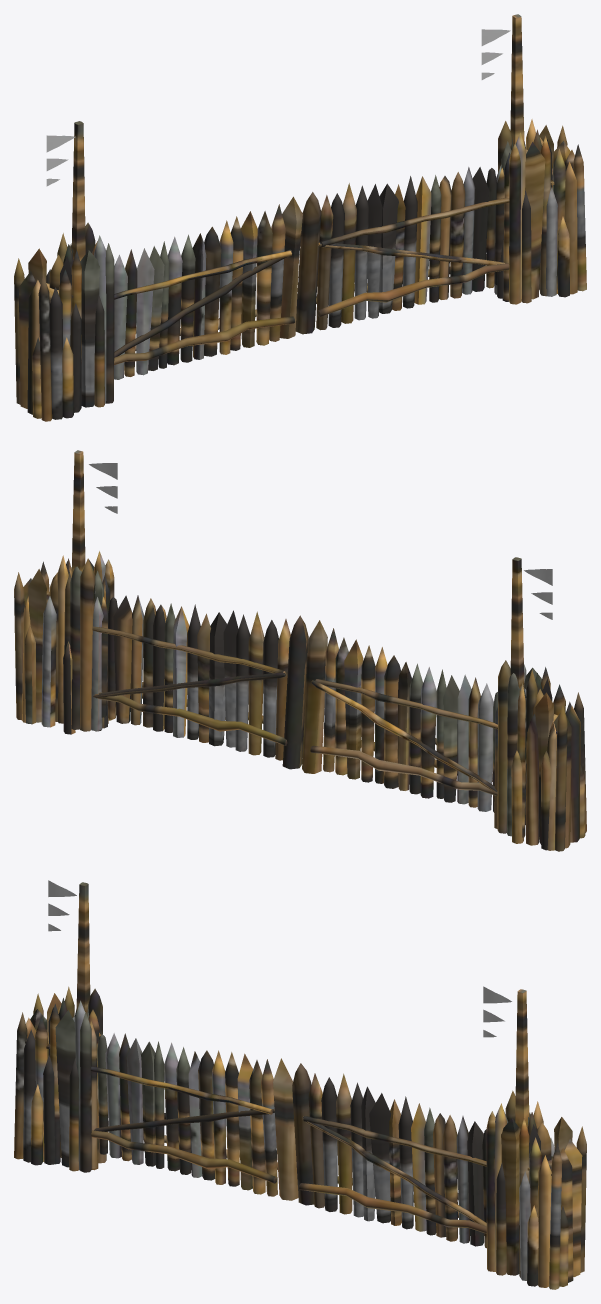
File: 120-wallgate.glb
The picture shows the model from 3 angles, top to bottom: view 1: azimuth 30°, elevation 25°; view 2: azimuth 150°, elevation 25°; view 3: azimuth 330°, elevation 25°; orthographic projection.
Bounding box in the file's own units: 11.64 × 5.6 × 1.22.
2 materials, 2 textured.
